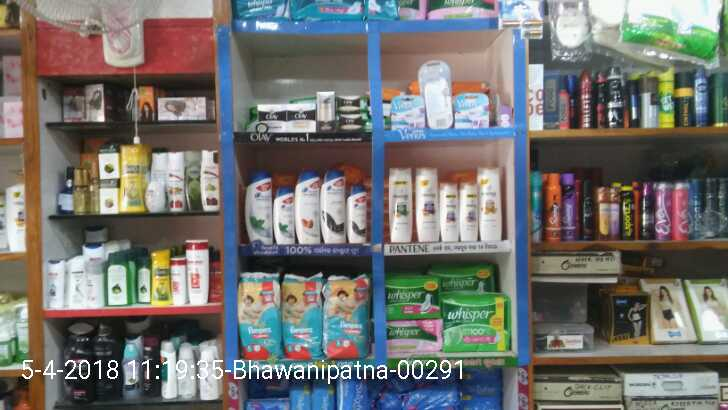venus: (425, 61, 457, 127), (457, 93, 490, 127), (392, 92, 424, 126)
